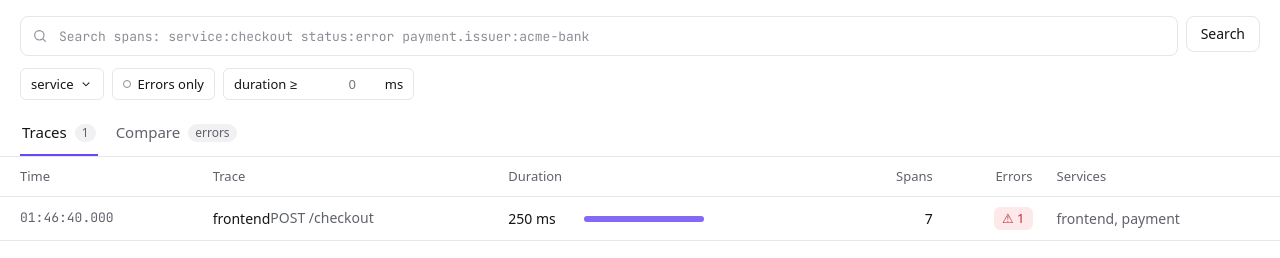
Test: searches spans with the query syntax
Replace the text in the search field named "Search traces" with "payment.issuer:acme-bank" at (599, 36), box [20,16,1178,56]
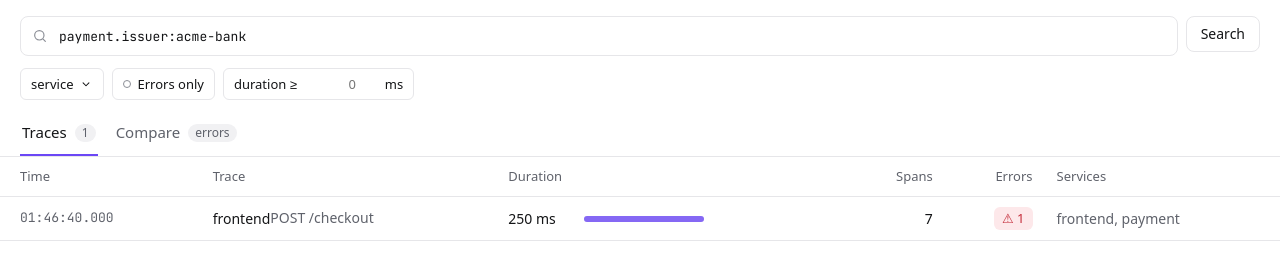
Submit the form, box [0,0,1279,56]
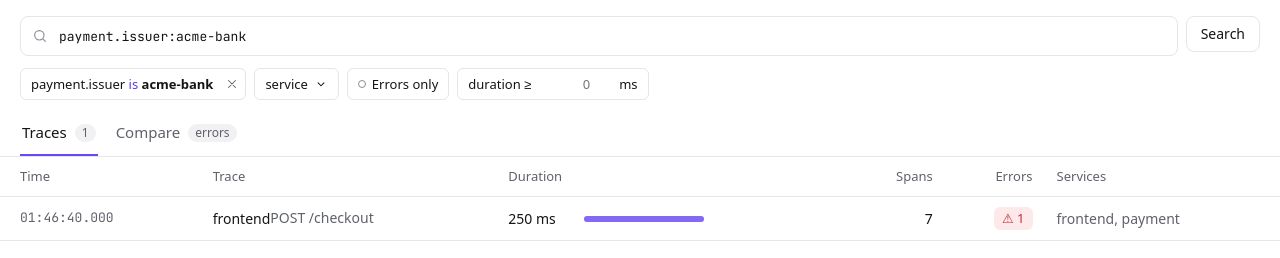
Expected: the element with class "active-filter" shows "acme-bank", [142,75,213,93]
